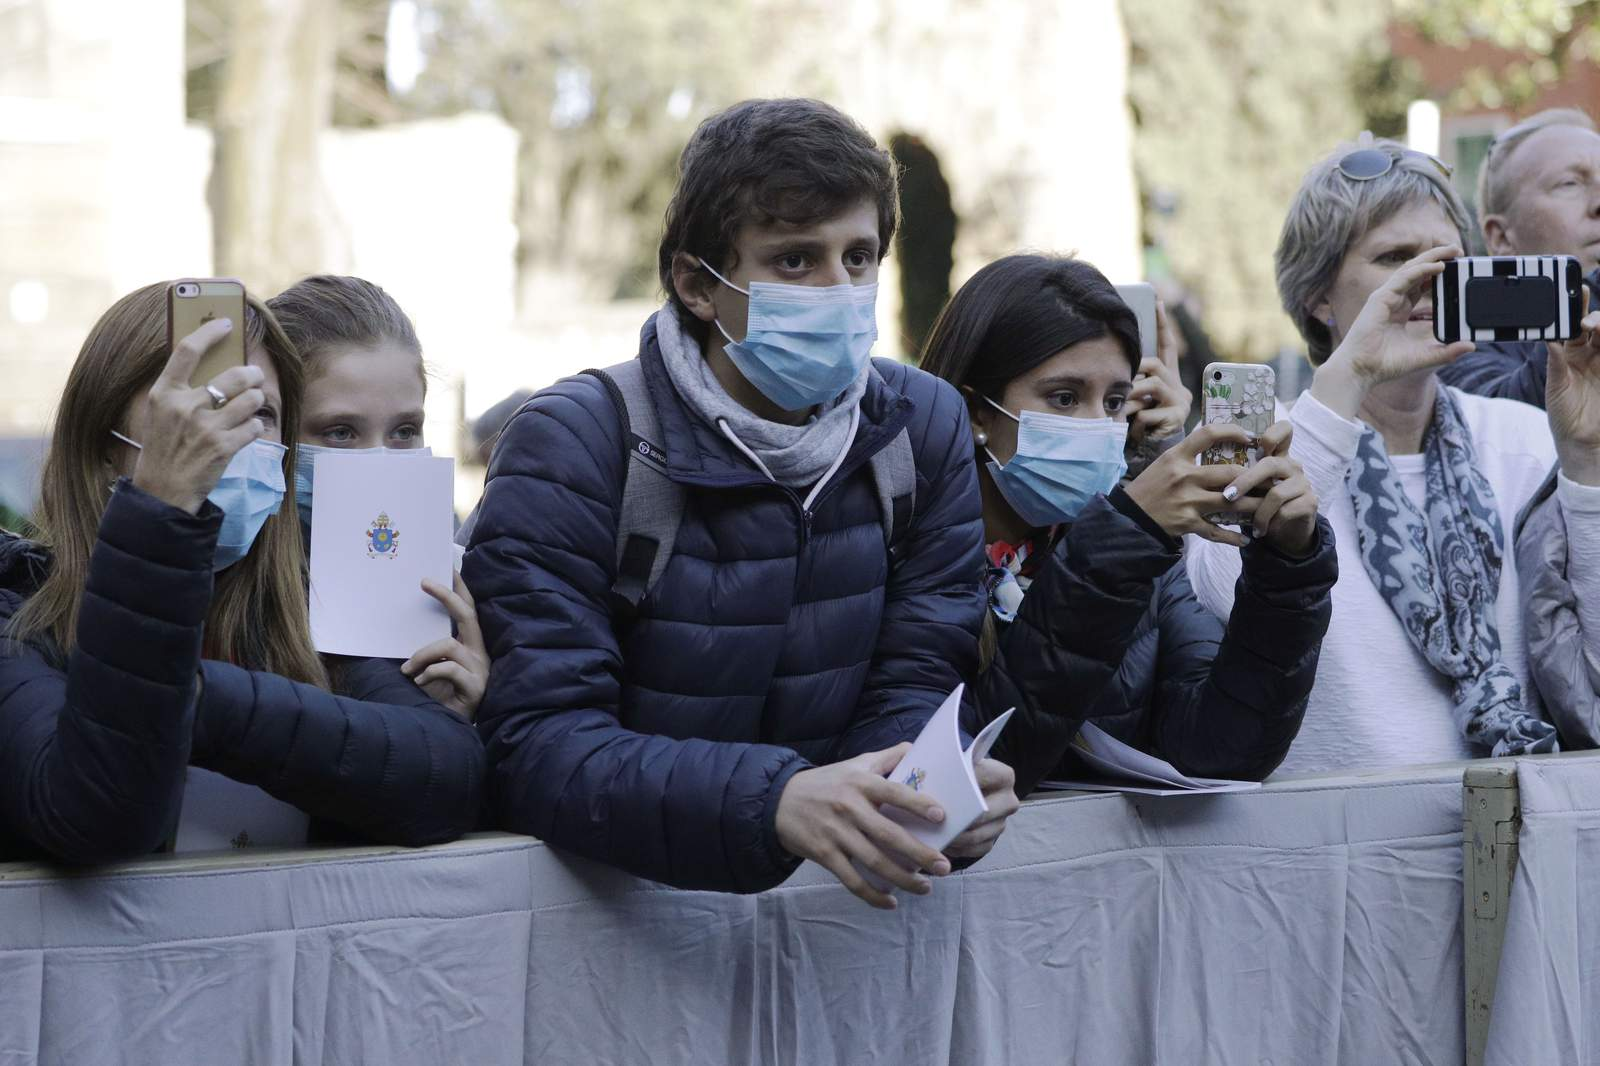surgical: (726, 270, 891, 412), (998, 399, 1141, 534), (165, 433, 292, 574)
